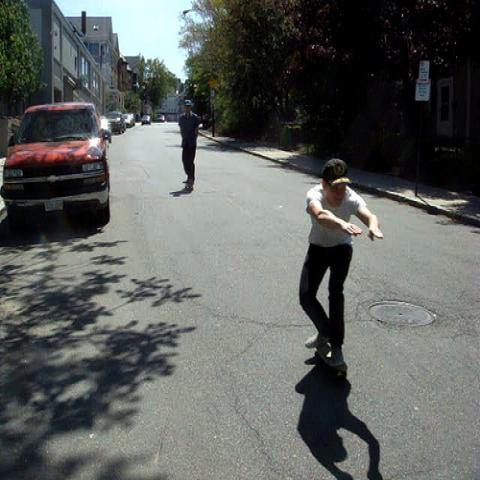car: (4, 103, 112, 222), (107, 112, 126, 134), (100, 115, 112, 132), (122, 114, 133, 128), (141, 115, 151, 125)
truck: (0, 102, 110, 234)
